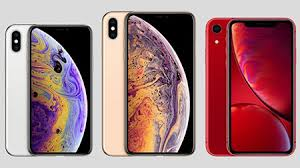iphone: (121, 8, 198, 159), (227, 14, 296, 154), (26, 23, 94, 158)
iphone10: (121, 8, 198, 159), (227, 14, 296, 154), (27, 23, 95, 158)
